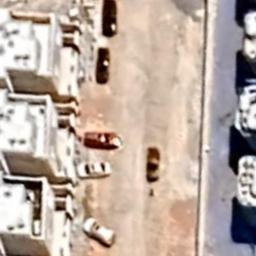SUV: (82, 216, 117, 248)
sedan: (102, 0, 119, 37), (78, 161, 111, 177), (96, 48, 109, 84)
unknown: (84, 132, 122, 150), (145, 146, 162, 184)
